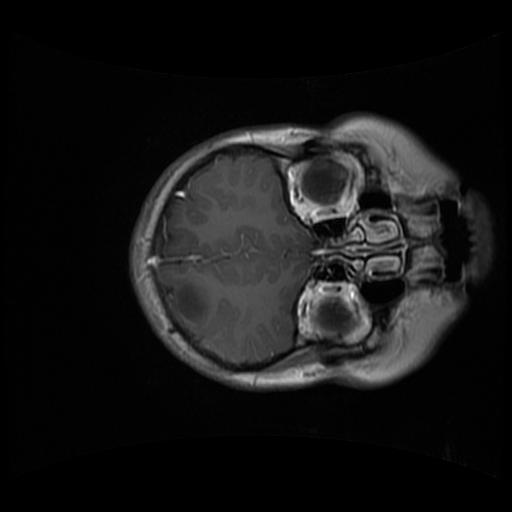glioma: (171, 282, 210, 328)
